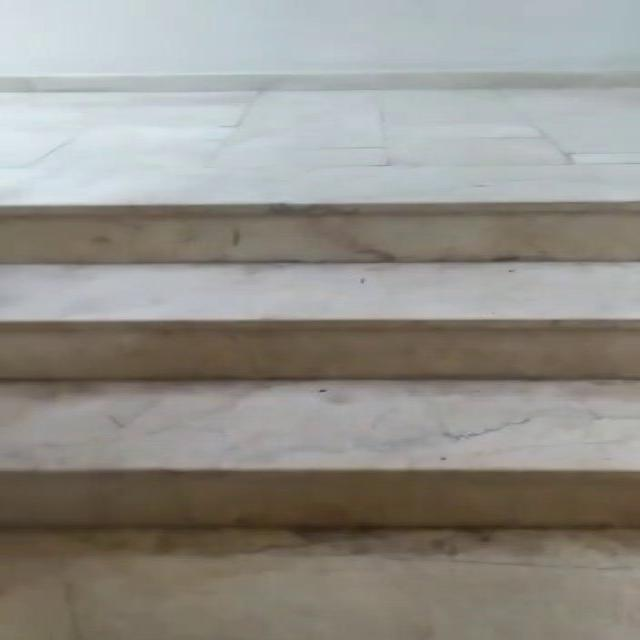stair: (4, 196, 640, 640)
